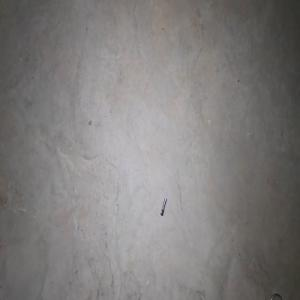Battery: (160, 196, 167, 216)
